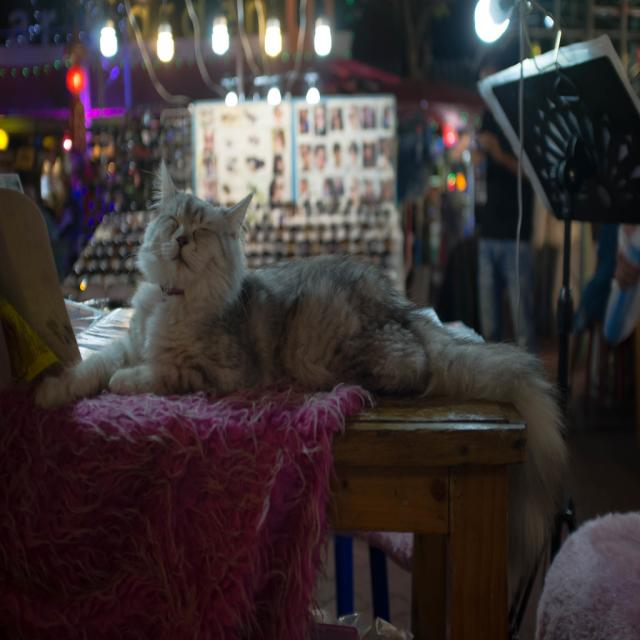Cat: (31, 157, 566, 608)
